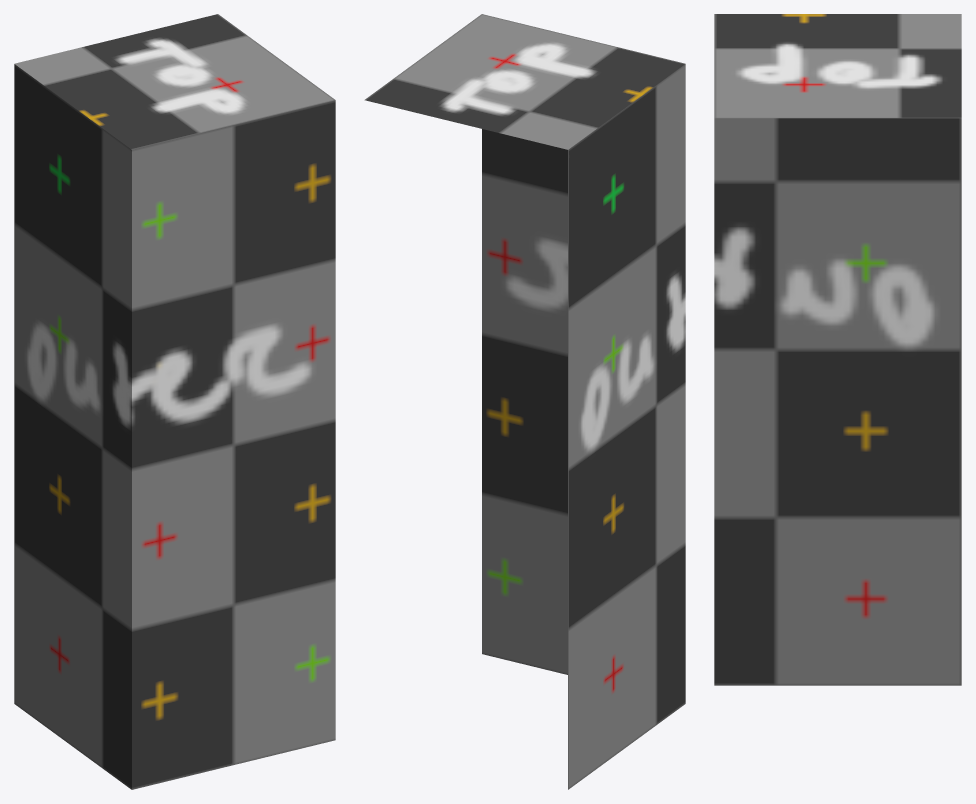
File: Wall_1x2x3_Outer_Test.fbx
3 views of the same model, side by side, from view 1: azimuth 30°, elevation 25°; view 2: azimuth 150°, elevation 25°; view 3: azimuth 270°, elevation 25° (orthographic). The views are drawn at different scales.
Parts seen in each view (by area): view 1: Wall_1x2x3_Outer_Test; view 2: Wall_1x2x3_Outer_Test; view 3: Wall_1x2x3_Outer_Test.
Part boxes in pixels (box(x1,y1,x2,y2)): Wall_1x2x3_Outer_Test: box(14, 14, 335, 789); Wall_1x2x3_Outer_Test: box(364, 14, 685, 789); Wall_1x2x3_Outer_Test: box(714, 14, 961, 685).
Bounding box in the file's own units: 1 × 1 × 3.
Materials: 1 (1 with a texture image).
